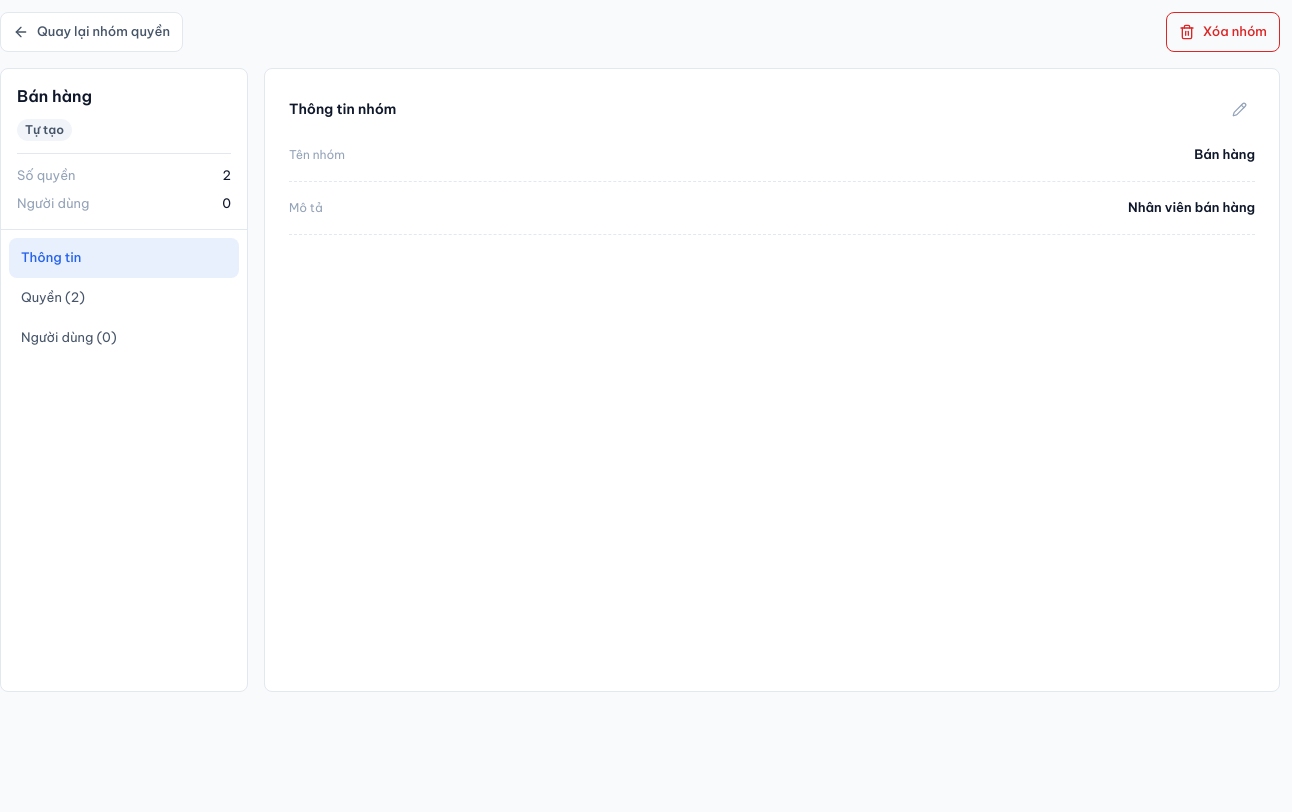
Test case: RoleDetail — sửa thông tin › tên quá ngắn → lỗi dưới ô (aria-invalid + aria-describedby), không gọi API
The image size is (1292, 812).
Step 1. Click the button named "Chỉnh sửa thông tin nhóm" → (1239, 109), box x1=1223 y1=93 x2=1255 y2=125
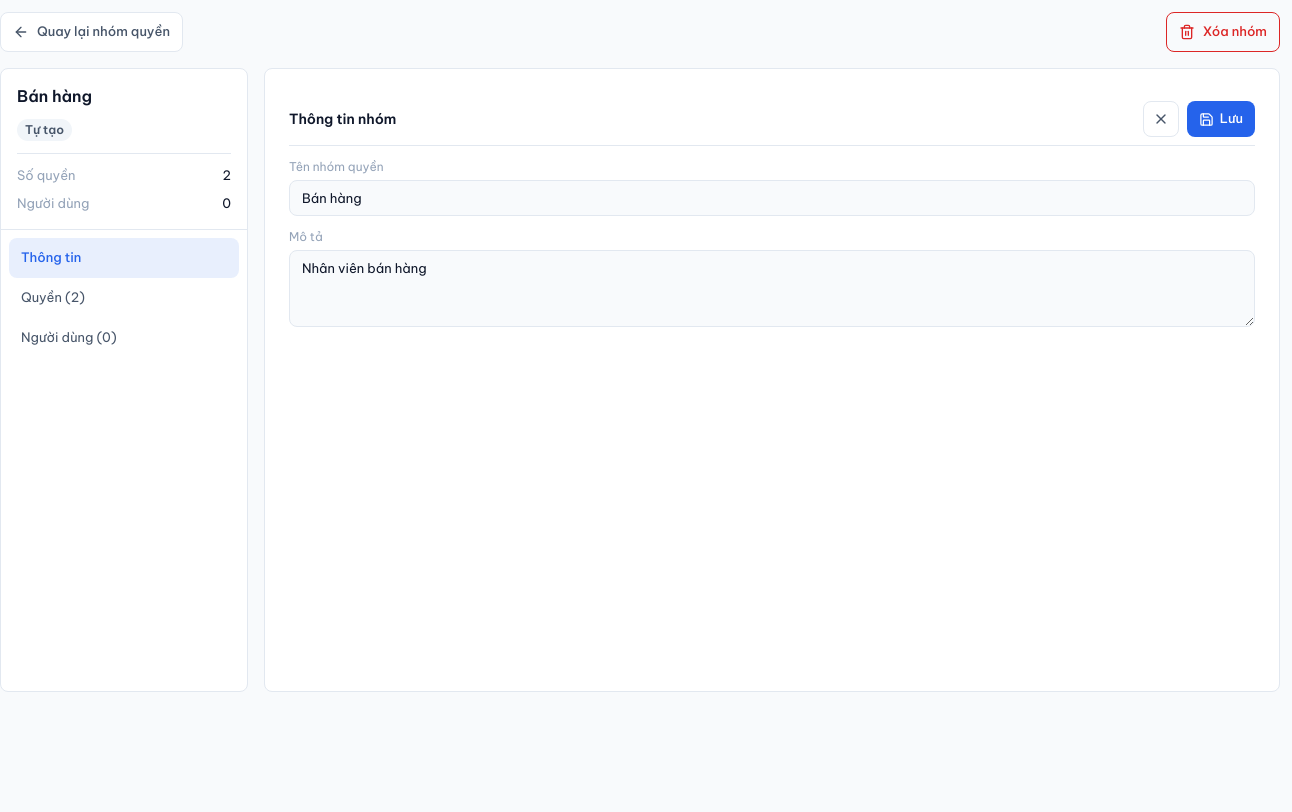
Step 2. Replace the text in the field labelled "Tên nhóm quyền" with "A" → (772, 198), box x1=289 y1=180 x2=1255 y2=216
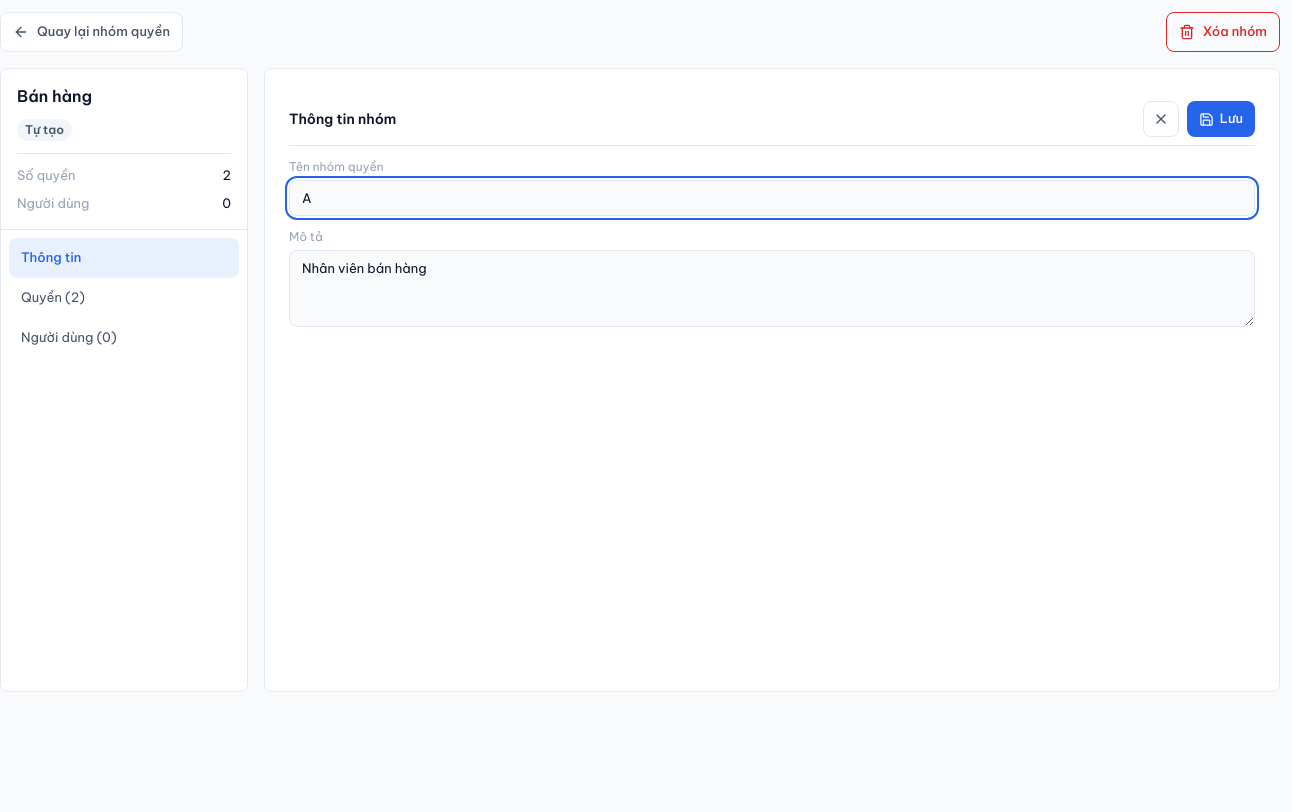
Step 3. Click the button "Lưu" → (1221, 119), box x1=1187 y1=101 x2=1255 y2=137
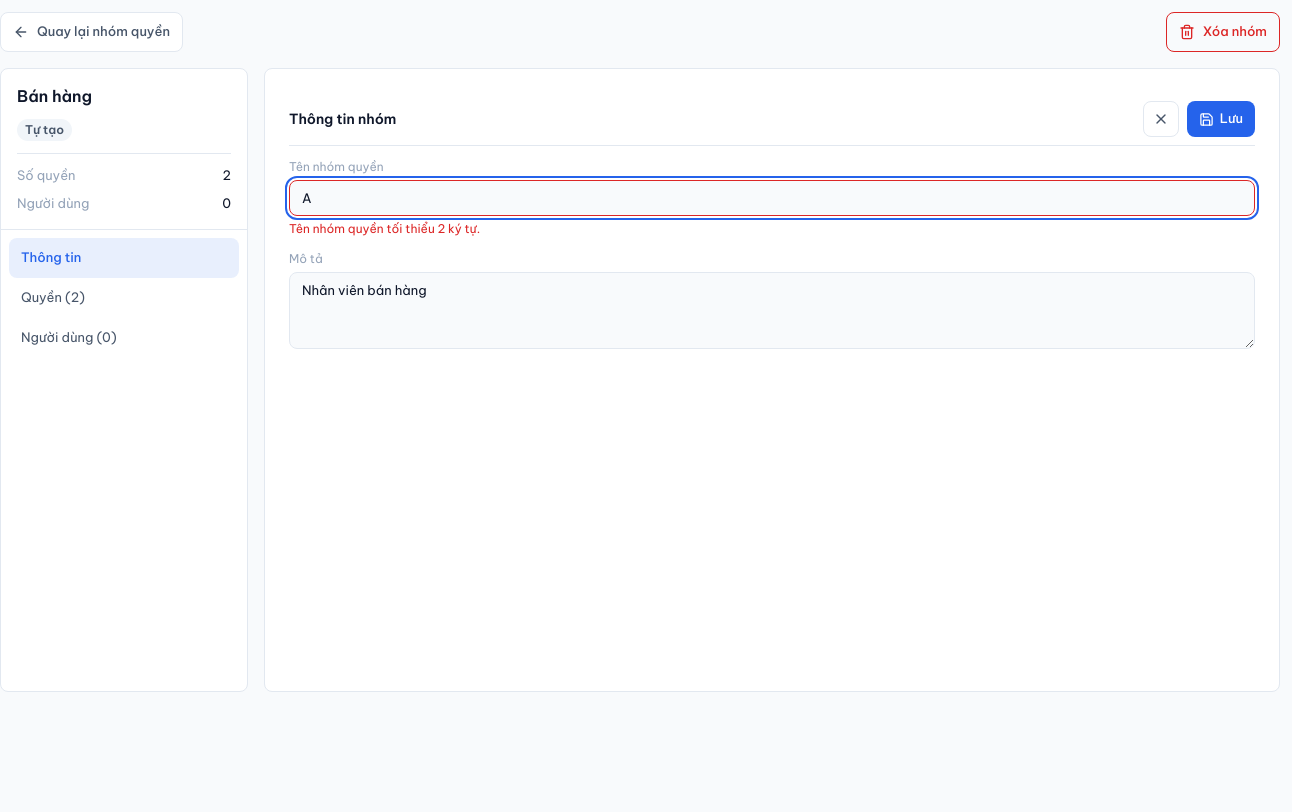
Check: the text "Tên nhóm quyền tối thiểu 2 ký tự." is shown, box x1=289 y1=221 x2=480 y2=236
